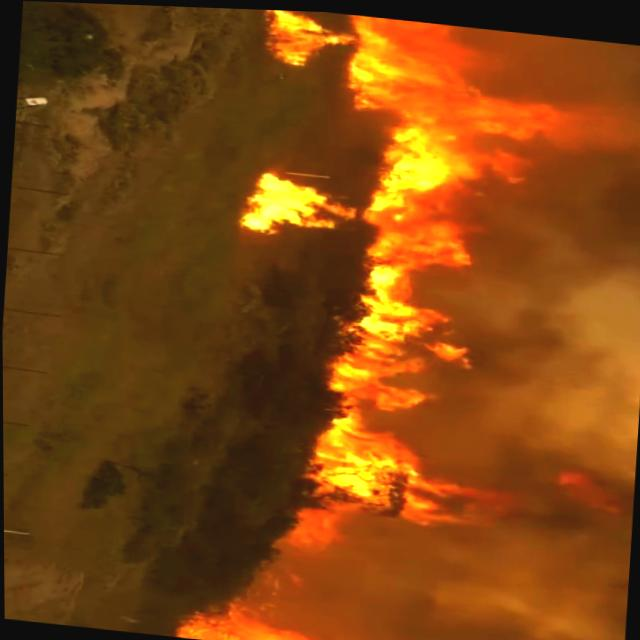fire: (314, 212, 565, 546), (339, 11, 600, 215), (153, 594, 372, 640)
